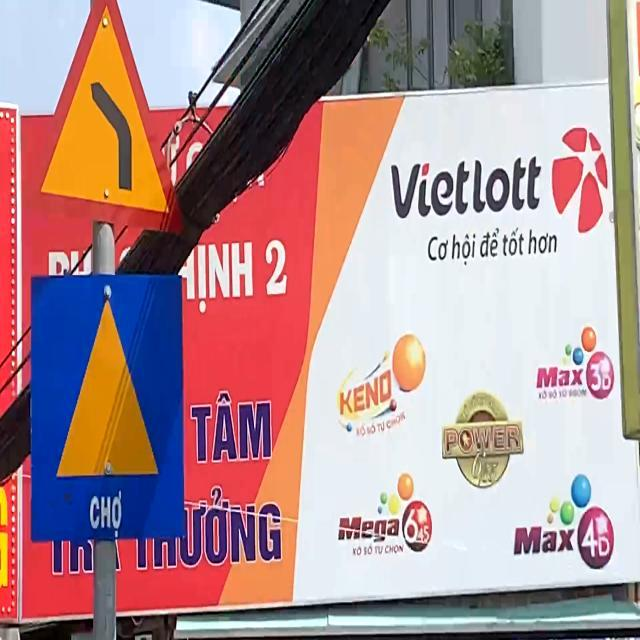cho ngoat nguy hiem vong ben trai: (27, 0, 195, 254)
